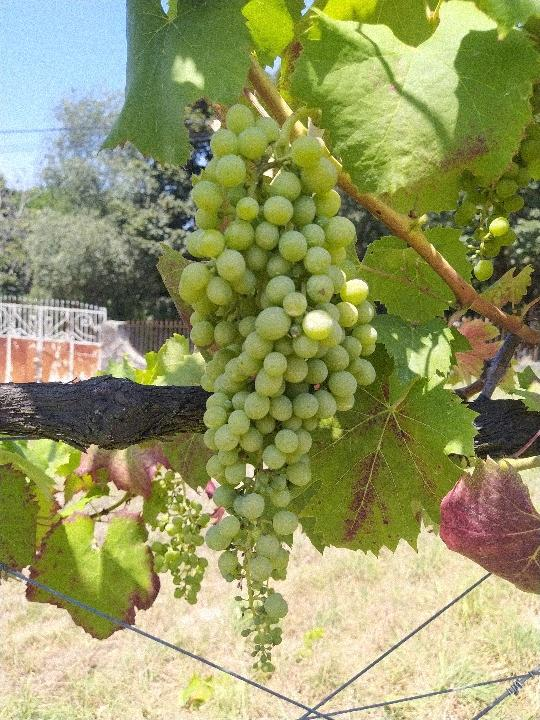grape: (177, 101, 378, 678), (149, 468, 214, 610)
